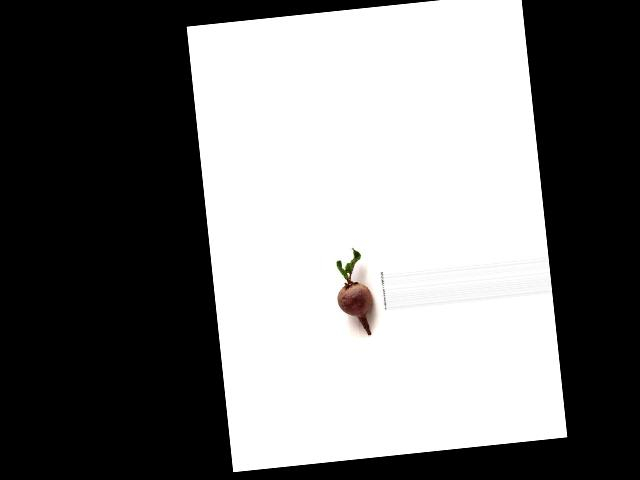beet: (332, 246, 375, 336)
